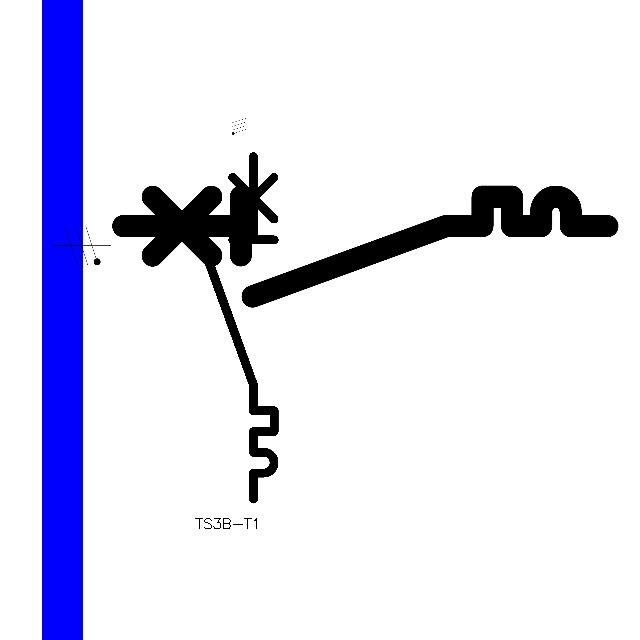interruptor_termomagnetico: (110, 184, 620, 309), (195, 147, 283, 508)
